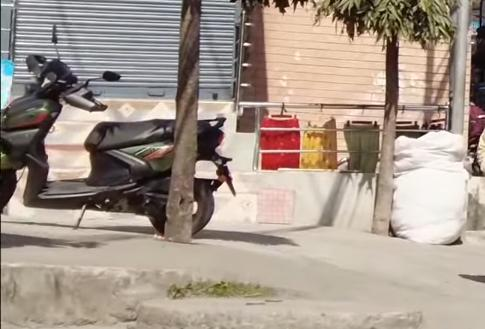scooter: (1, 27, 233, 248)
